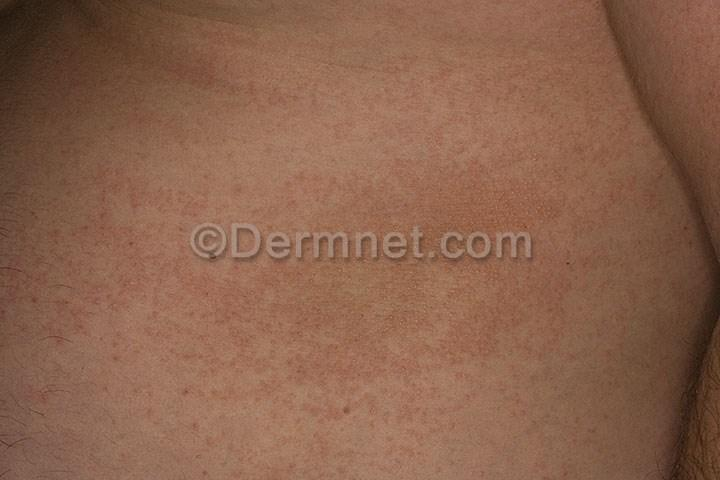Eczema: (174, 269, 361, 469), (363, 272, 557, 447), (0, 209, 167, 412), (318, 112, 599, 218), (141, 112, 316, 227), (557, 210, 662, 337)
